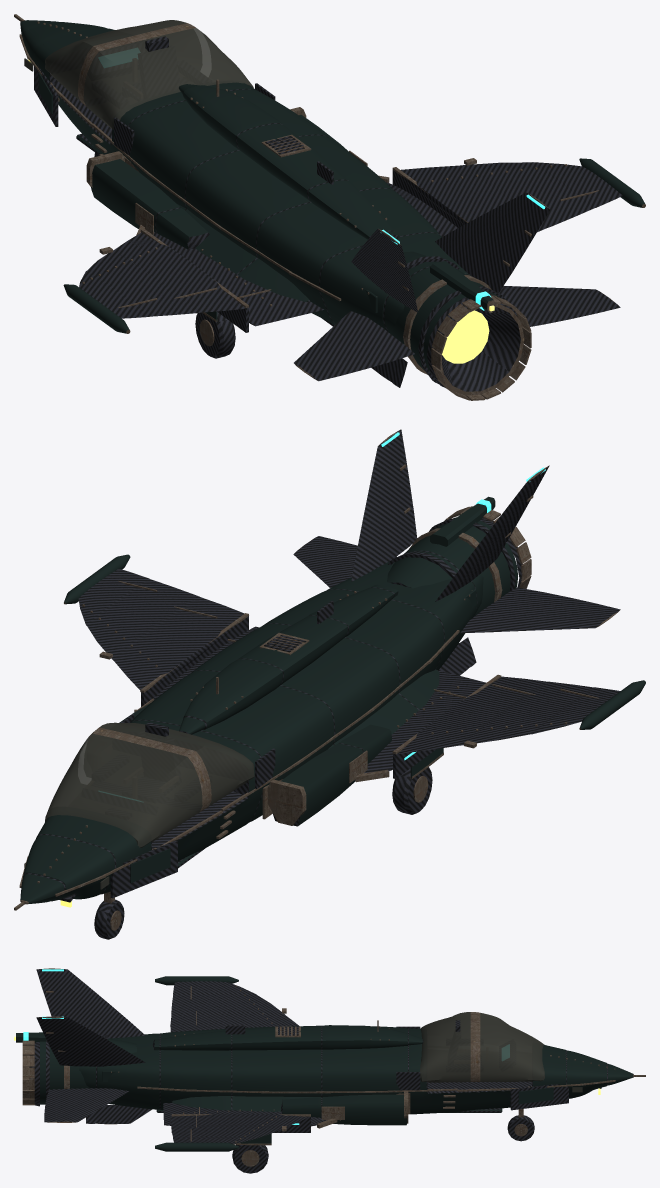
The picture shows the model from 3 angles, top to bottom: view 1: azimuth 30°, elevation 25°; view 2: azimuth 150°, elevation 25°; view 3: azimuth 270°, elevation 25°; orthographic projection. The views are drawn at different scales.
Parts seen in each view (by area): view 1: kb3_core, kb3_wing_r, kb3_wing_l, kb3_tail_r, kb3_tail_l, kb3_gear_down; view 2: kb3_core, kb3_wing_r, kb3_wing_l, kb3_tail_r, kb3_tail_l, kb3_gear_down; view 3: kb3_core, kb3_wing_l, kb3_tail_r, kb3_wing_r, kb3_tail_l, kb3_gear_down.
Part boxes in pixels (left/top/right/bottom): kb3_core: left=14, top=14, right=531, bottom=400; kb3_wing_r: left=392, top=158, right=645, bottom=232; kb3_wing_l: left=63, top=228, right=248, bottom=333; kb3_tail_r: left=435, top=192, right=620, bottom=326; kb3_tail_l: left=294, top=229, right=418, bottom=381; kb3_gear_down: left=94, top=152, right=235, bottom=358; kb3_core: left=14, top=496, right=531, bottom=910; kb3_wing_r: left=64, top=554, right=248, bottom=706; kb3_wing_l: left=392, top=674, right=645, bottom=778; kb3_tail_r: left=293, top=429, right=416, bottom=587; kb3_tail_l: left=435, top=465, right=620, bottom=633; kb3_gear_down: left=94, top=748, right=443, bottom=939; kb3_core: left=14, top=1012, right=645, bottom=1128; kb3_wing_l: left=155, top=976, right=299, bottom=1032; kb3_tail_r: left=36, top=1016, right=145, bottom=1122; kb3_wing_r: left=155, top=1114, right=310, bottom=1151; kb3_tail_l: left=36, top=968, right=145, bottom=1038; kb3_gear_down: left=232, top=1109, right=534, bottom=1173.
Bounding box in the file's own units: 5.36 × 2.17 × 8.41.
Materials: 10 (4 with a texture image).
